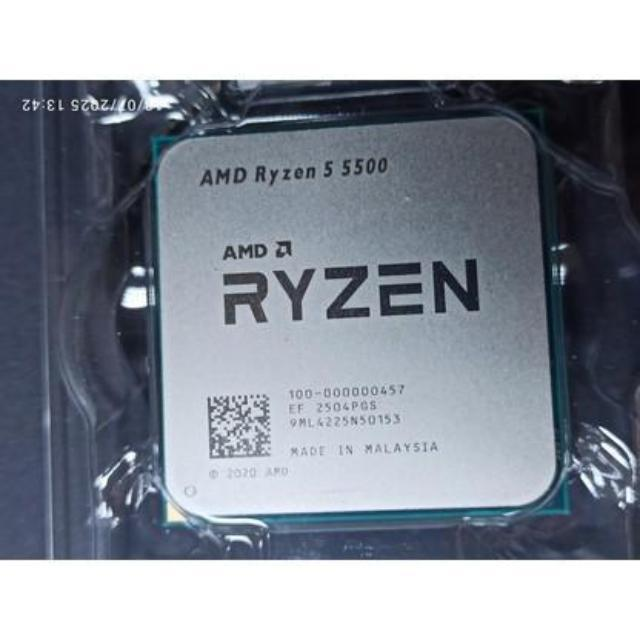CPU: (154, 128, 568, 522)
